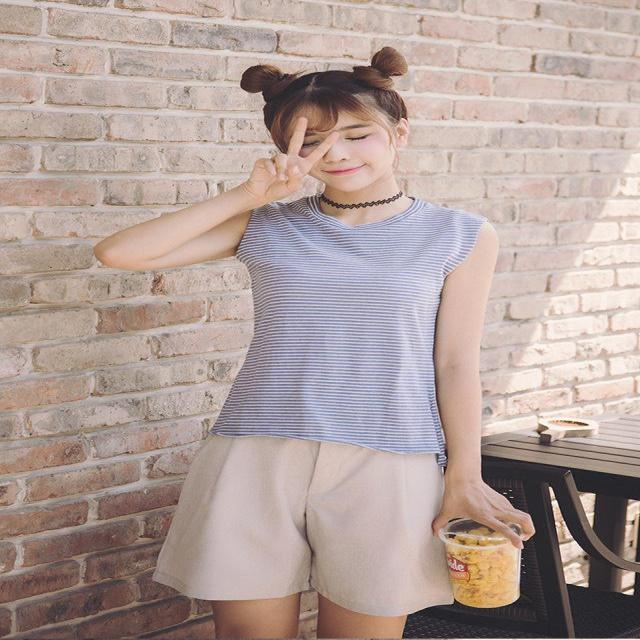shorts: (156, 409, 453, 603)
vest: (213, 196, 486, 475)
